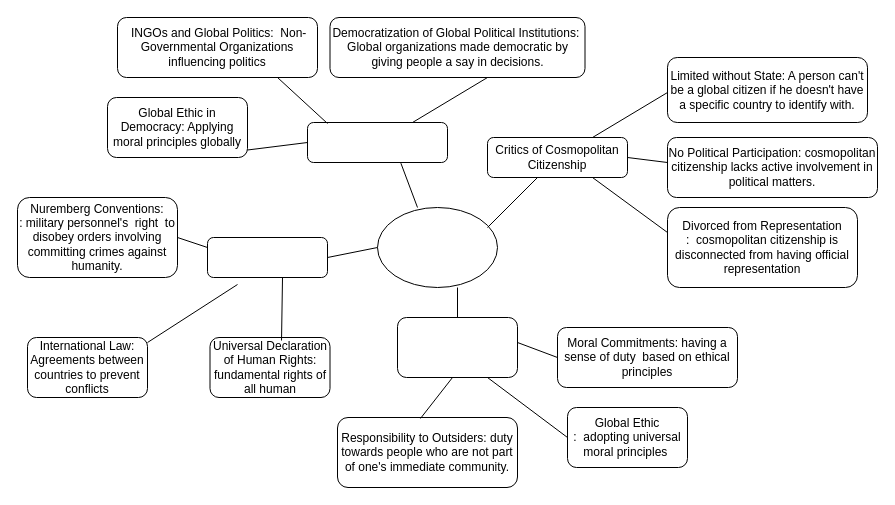
Image size: 895x505. Some labels were removed from this diagram. The shapes that lost their labels are listed below. From the top down, each one's box as (x1, y1, x2, y2) in pixels, then its label:
(306, 122, 448, 162): Sphere of Cosmopolitan Democracy
(206, 236, 328, 278): Sphere of Cosmopolitan Rights
(376, 206, 498, 288): COSMOPOLITAN CITIZENSHIP
(396, 316, 518, 378): Sphere of Cosmopolitan Duty
